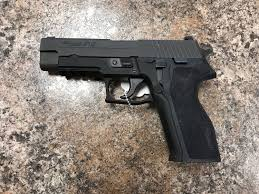gun: (37, 32, 226, 166)
